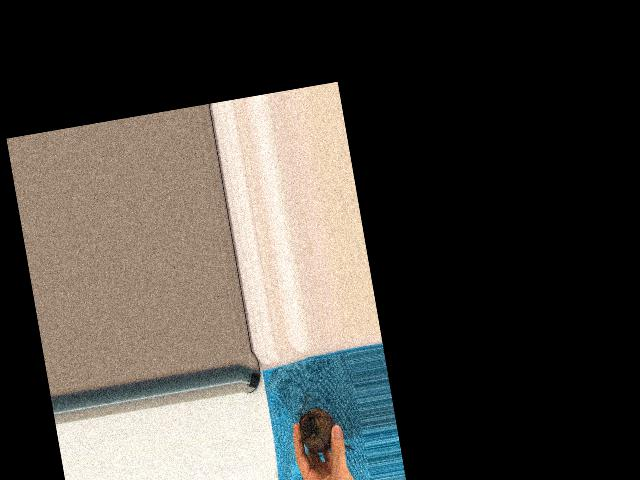beet: (294, 389, 354, 457)
